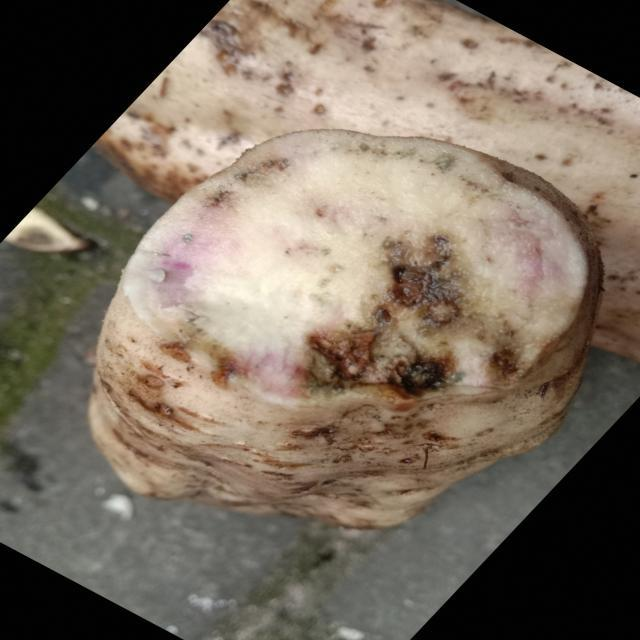Sick Sweet Potato_Tuber Rot: (122, 130, 588, 402)
